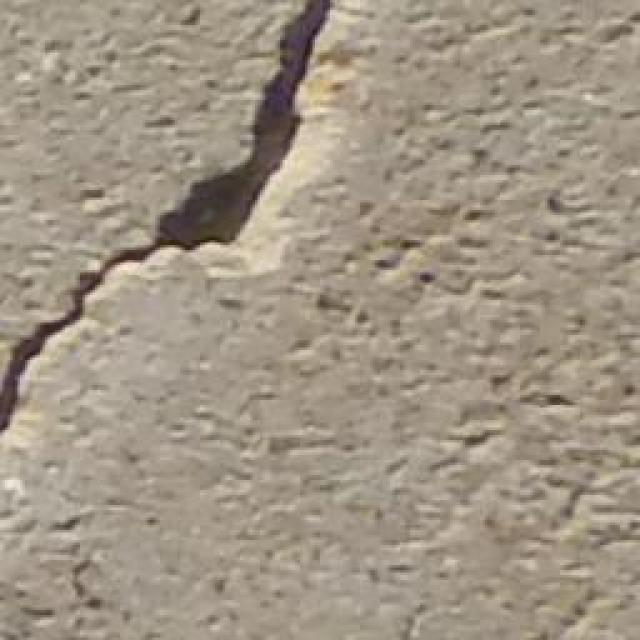concrete-crack: (1, 0, 337, 439)
